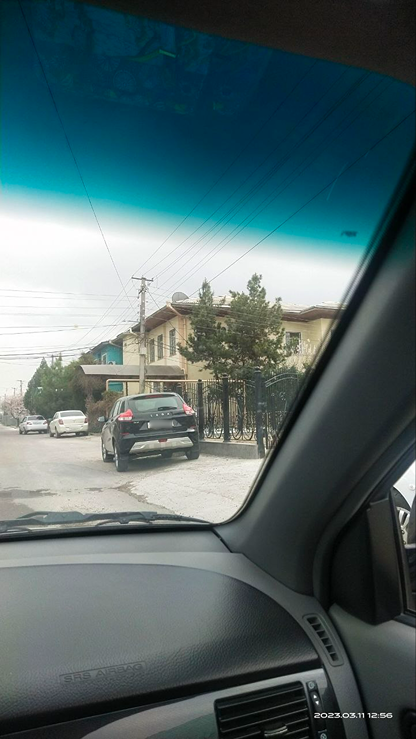car: (103, 397, 200, 463), (46, 406, 96, 439), (19, 410, 46, 434)
tree: (187, 271, 305, 415), (23, 350, 90, 403)
